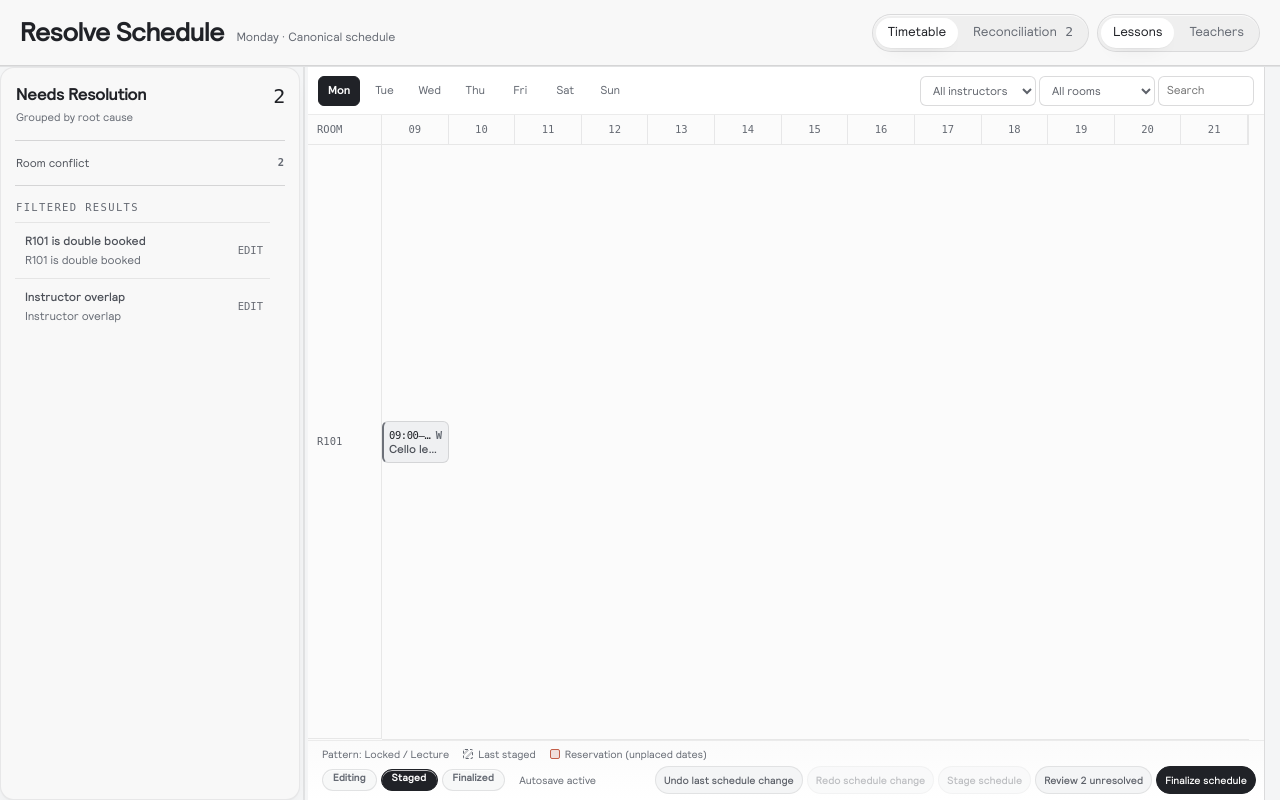
Scenario: finalize schedule › allows finalize while unresolved lessons remain and explains export behavior
The width and height of the screenshot is (1280, 800).
Click the button "Finalize schedule". click: {"x": 1206, "y": 780}
box: left=1156, top=766, right=1256, bottom=794
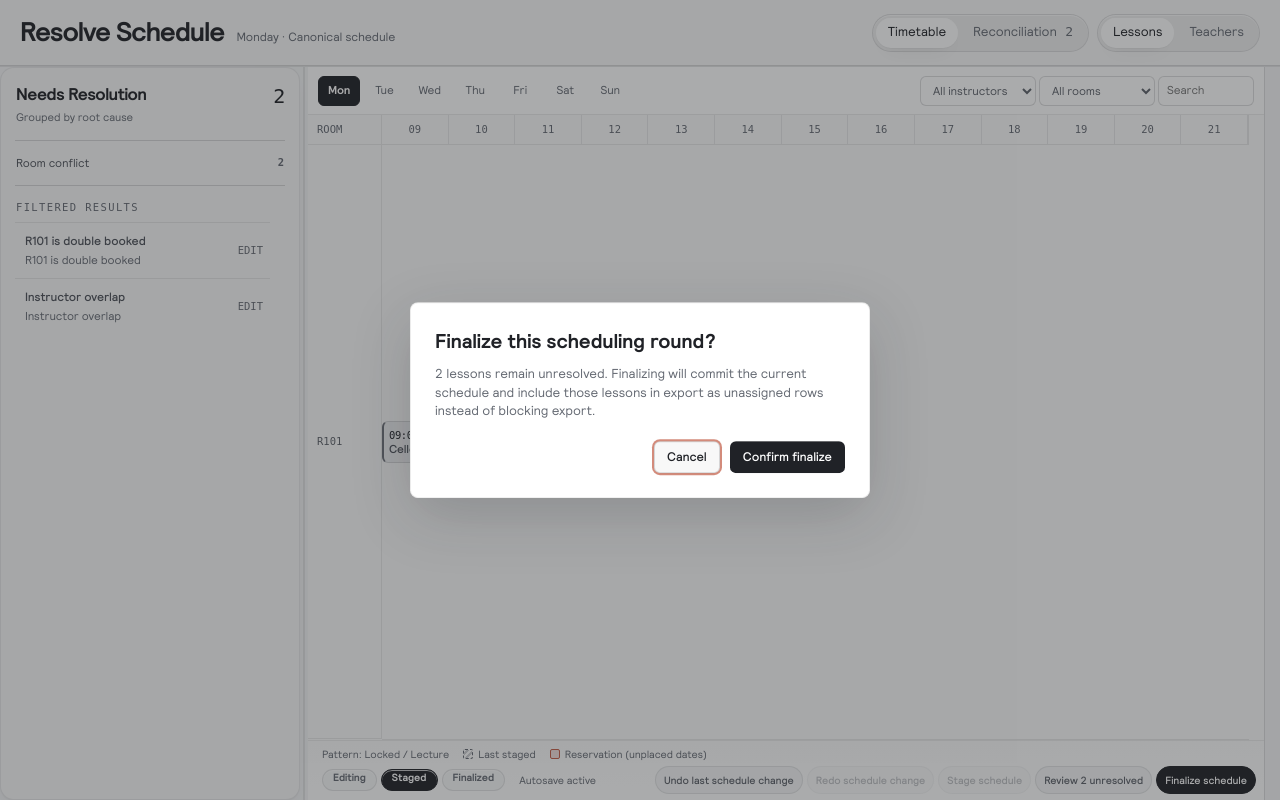
Expected: the dialog shows "2 lessons remain unresolved", left=435, top=366, right=824, bottom=418
Expected: the dialog shows "include those lessons in export as unassigned rows", left=435, top=366, right=824, bottom=418
